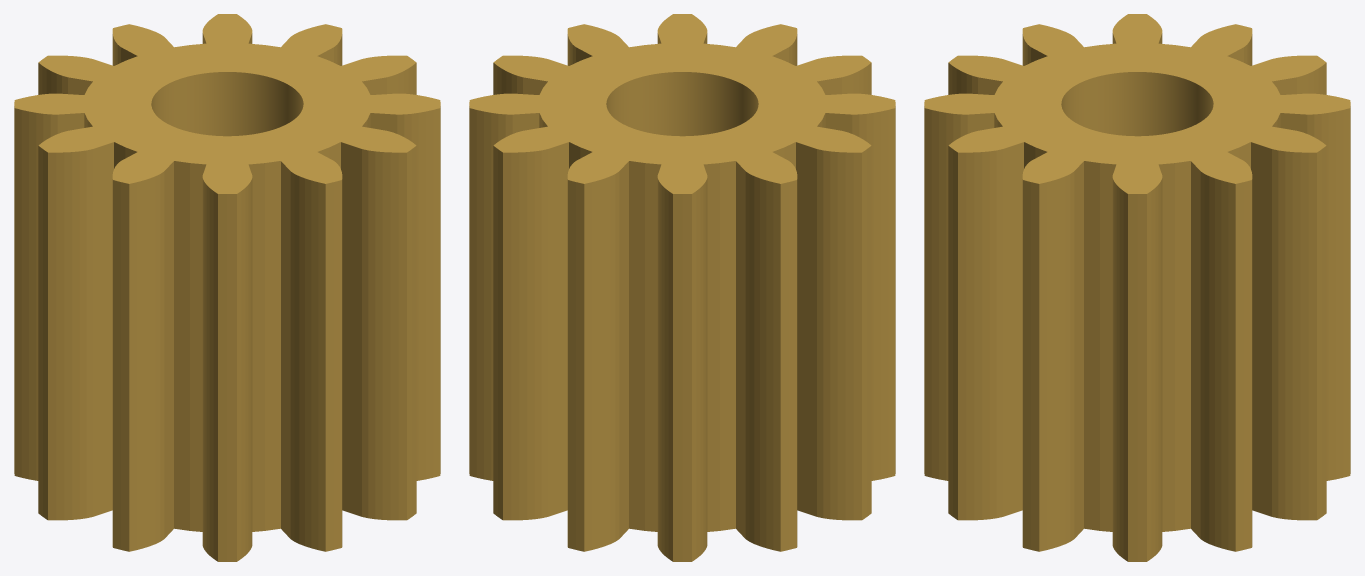
File: gear_m03_z12_753012.glb
3 renders of one model, left to right at view 1: azimuth 30°, elevation 25°; view 2: azimuth 150°, elevation 25°; view 3: azimuth 270°, elevation 25°, orthographic.
Visible parts, largest first — view 1: gear; view 2: gear; view 3: gear.
Part boxes in pixels (x1,y1,x2,y2): gear: [14, 14, 440, 561]; gear: [469, 14, 895, 561]; gear: [924, 14, 1350, 561].
Size of the model in its own units: 0.0042 by 0.004 by 0.0042.
